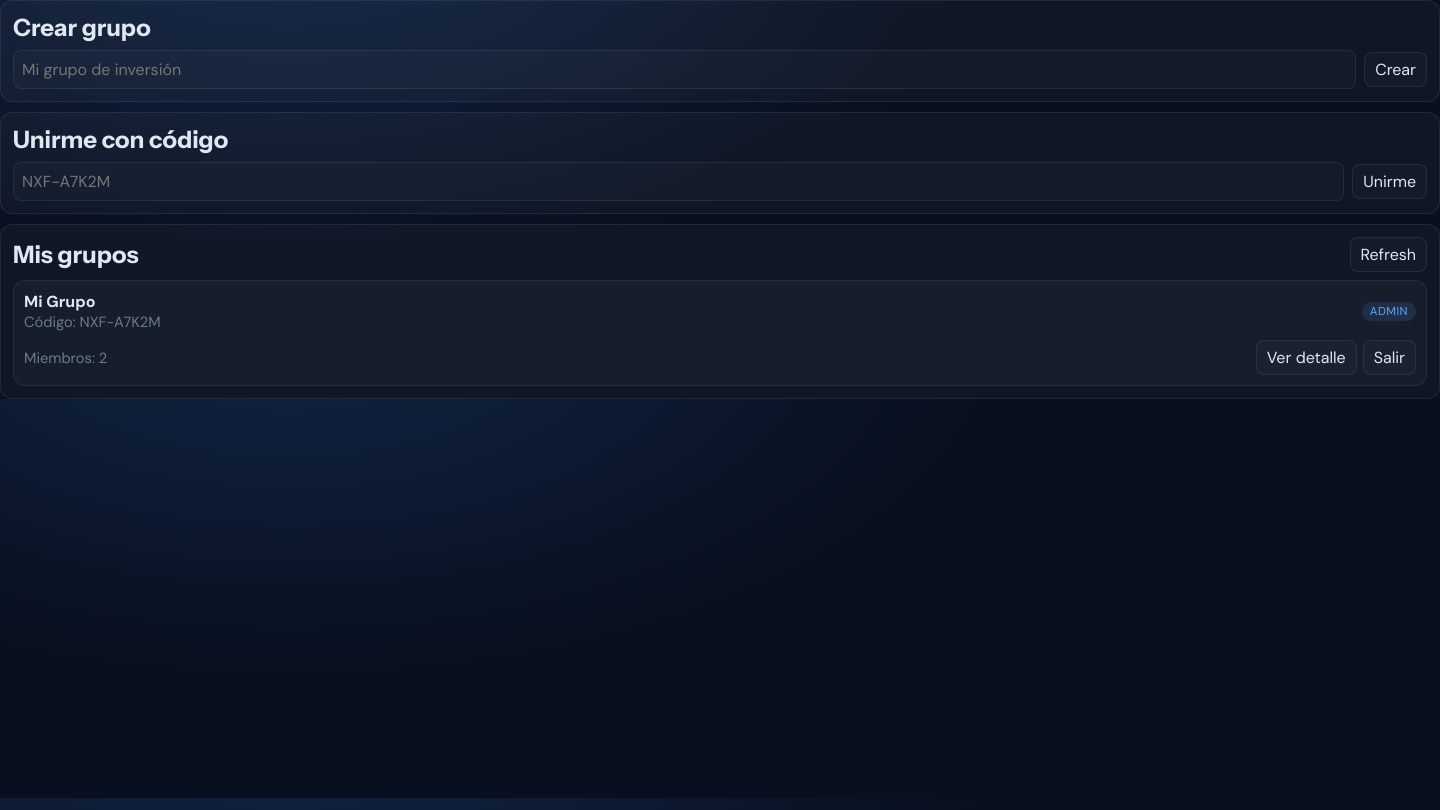
it: Groups › shows mapped backend error when join code is invalid
Expected: the text "Mi Grupo" is shown, [24, 291, 95, 312]
Type "bad-code" into the field with placeholder "NXF-A7K2M".
click(679, 182); type("bad-code")  # box [13, 162, 1344, 201]
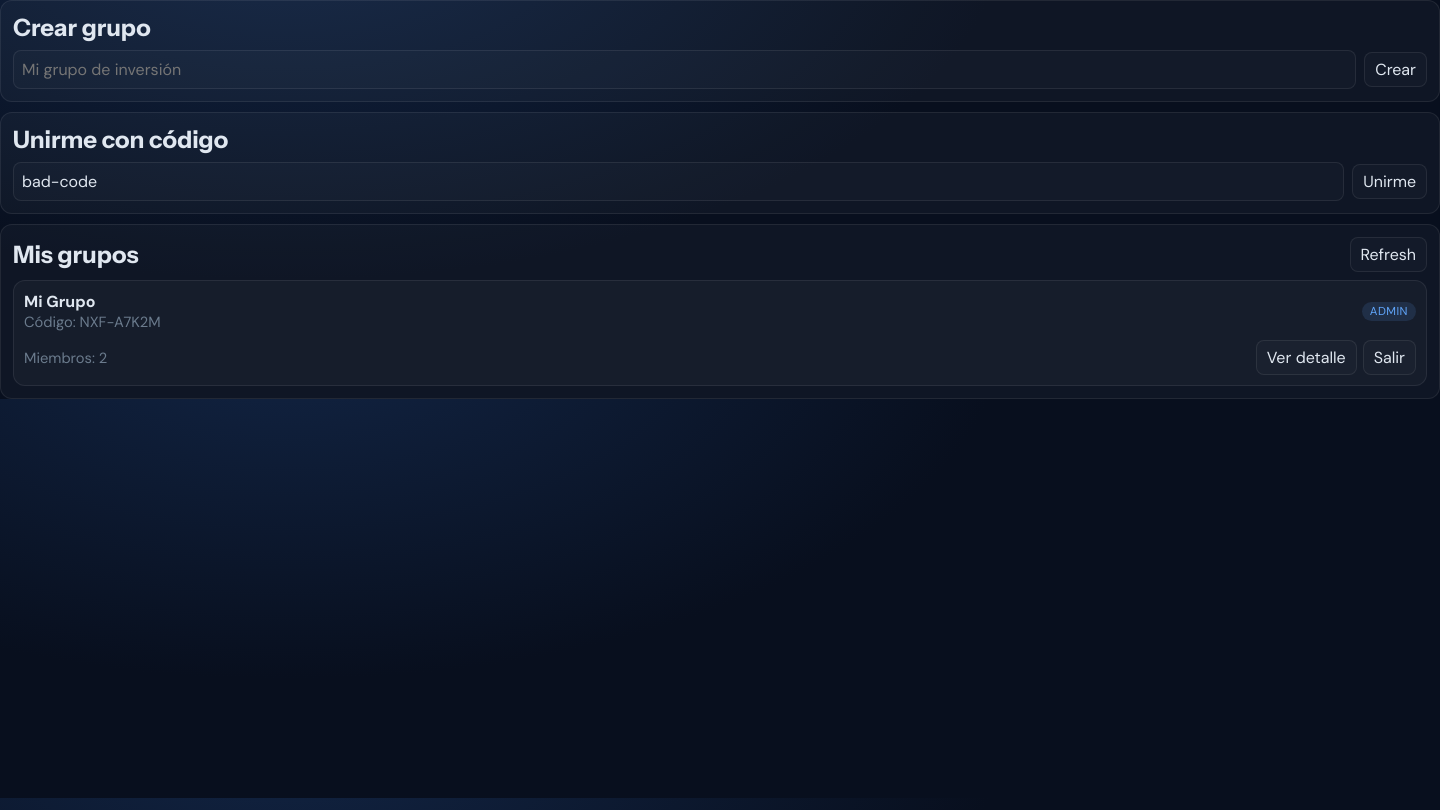
Click the button "Unirme".
click(1390, 182)  # box [1352, 164, 1427, 199]
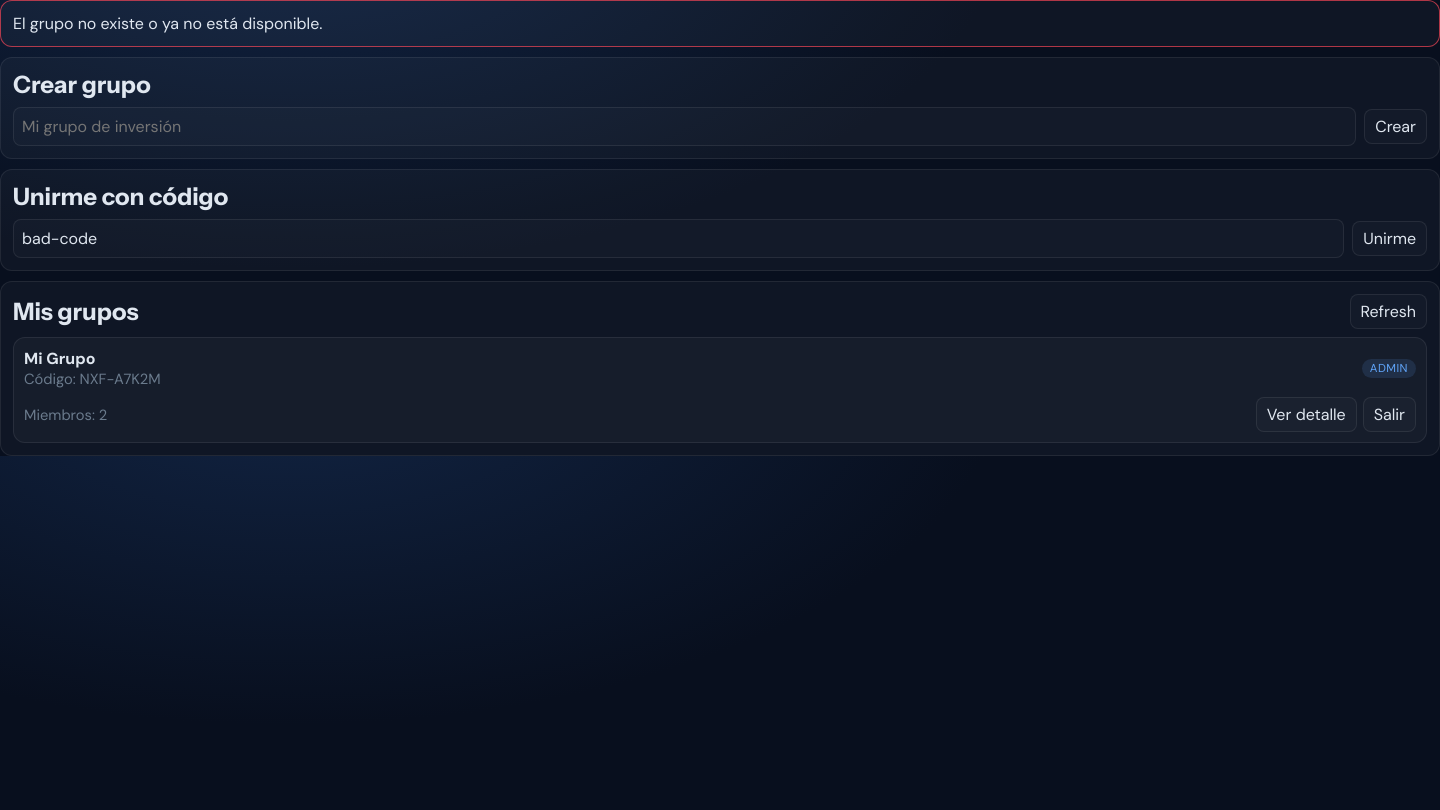
Expected: the text "El grupo no existe o ya no está disponible." is shown, [0, 0, 1439, 47]
